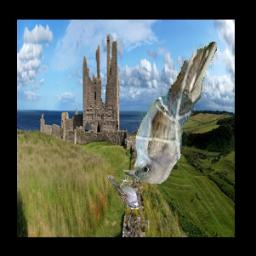Cuckoo: (123, 43, 217, 185)
Sparrow: (109, 175, 142, 209)
